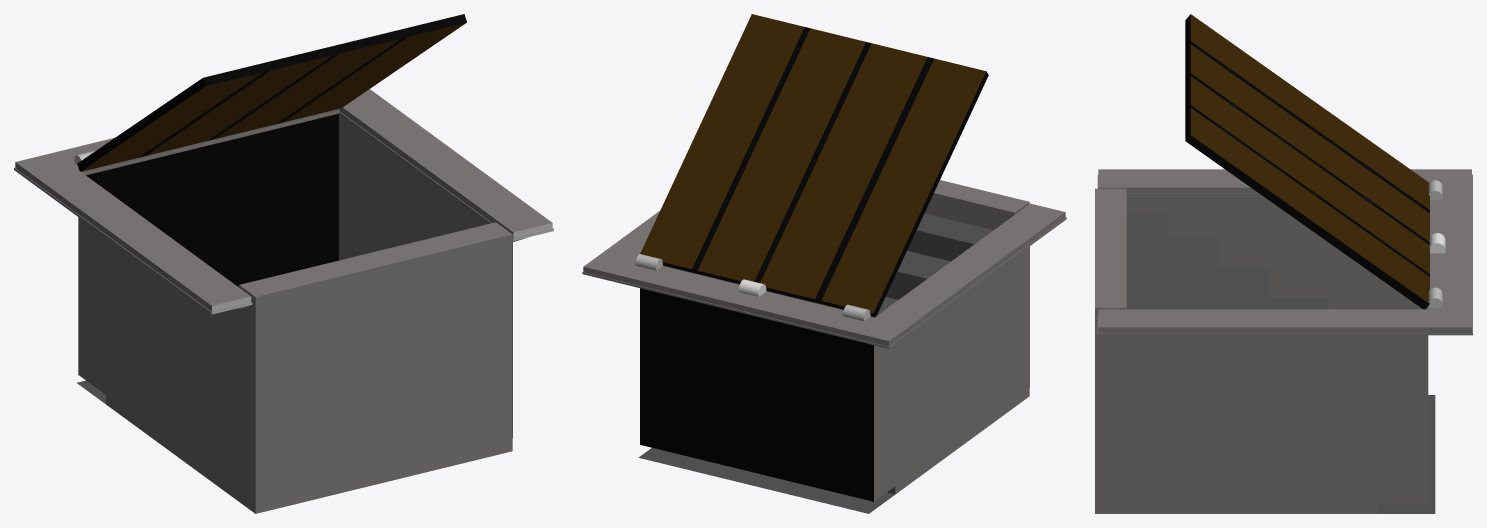
File: FloorExit1.fbx
The picture shows the model from 3 angles, left to right: view 1: azimuth 30°, elevation 25°; view 2: azimuth 150°, elevation 25°; view 3: azimuth 270°, elevation 25°; orthographic projection. The views are drawn at different scales.
Visible parts, largest first — view 1: ExitWIP, ExitPanel; view 2: ExitWIP, ExitPanel; view 3: ExitWIP, ExitPanel.
Part boxes in pixels (left/top/right/bottom): ExitWIP: left=14, top=89, right=553, bottom=513; ExitPanel: left=77, top=14, right=466, bottom=171; ExitWIP: left=582, top=180, right=1066, bottom=513; ExitPanel: left=640, top=14, right=988, bottom=317; ExitWIP: left=1095, top=169, right=1472, bottom=513; ExitPanel: left=1185, top=14, right=1429, bottom=309.
Bounding box in the file's own units: 400 × 447 × 403.
